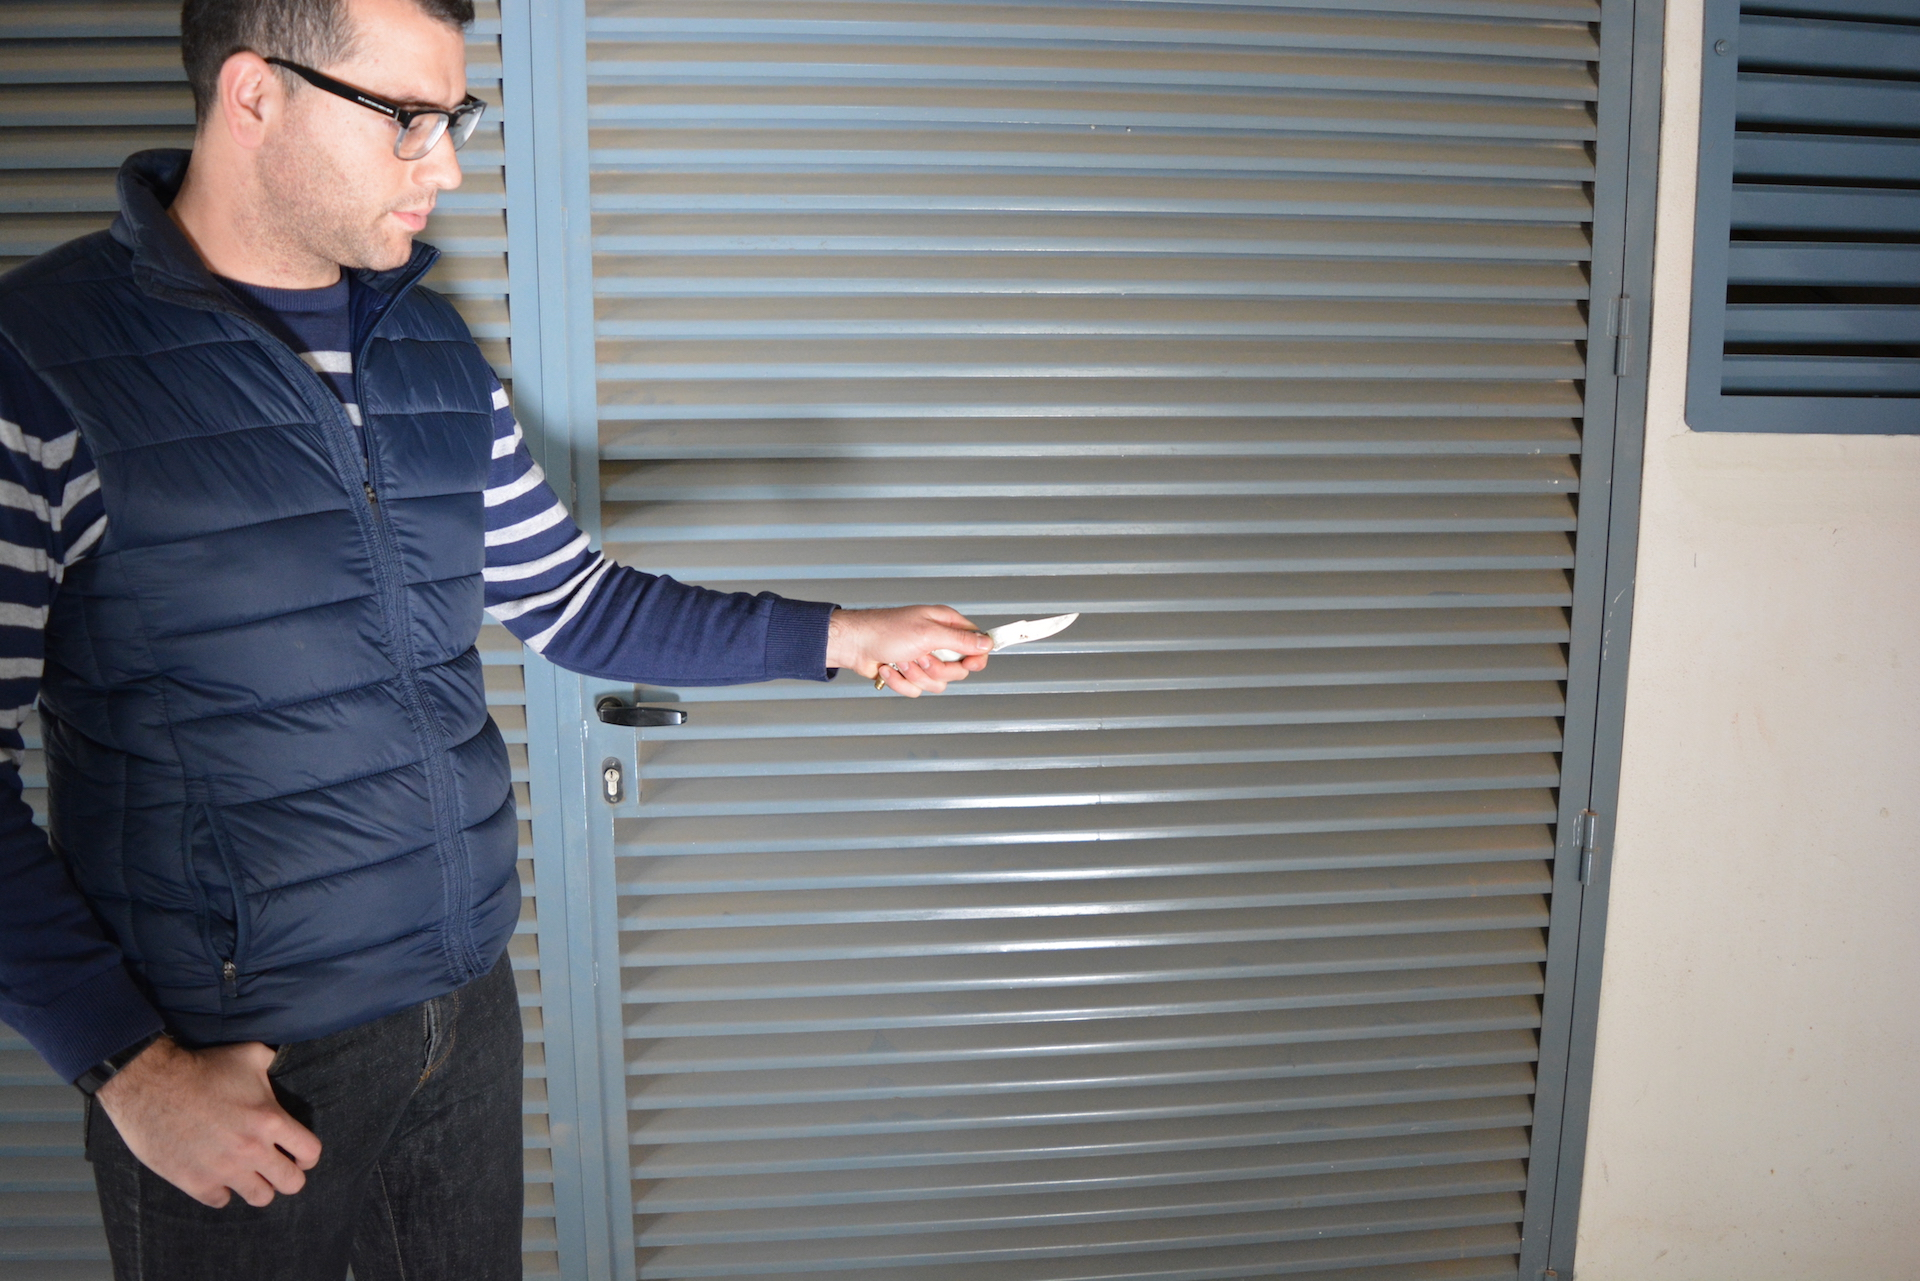knife: (866, 603, 1089, 696)
